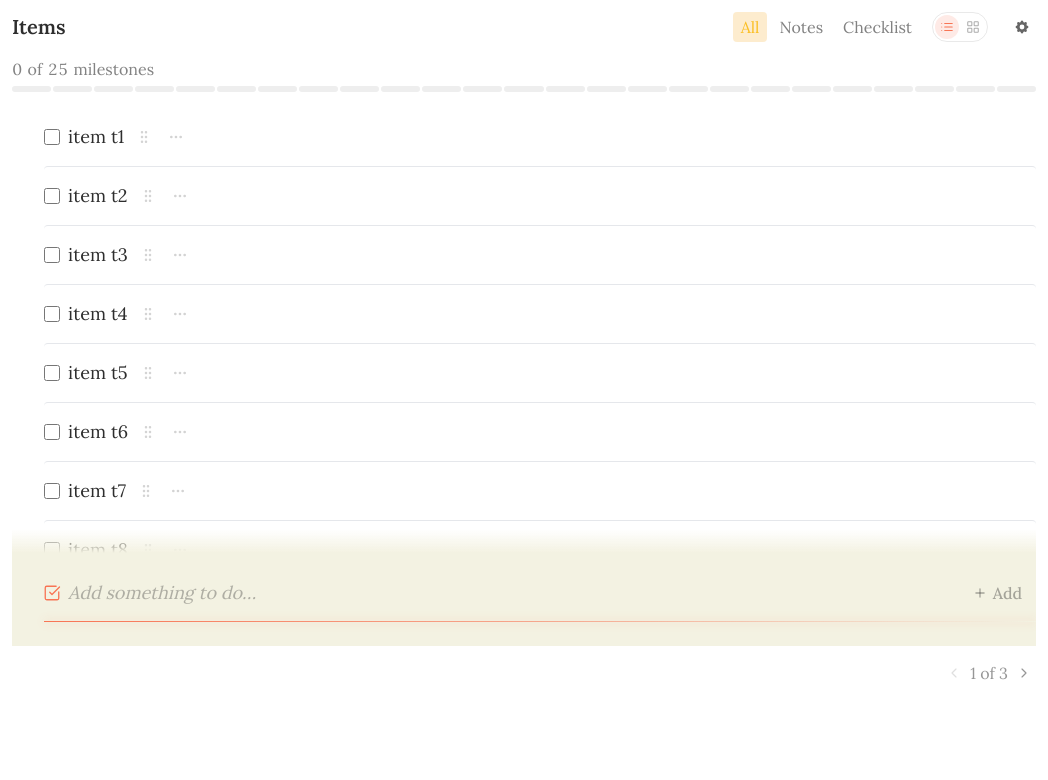
Todo add bar over a paged list (FS-0008 R15–R18) › should carry half-typed text and its nesting across a page change
This screenshot has width=1048, height=780.
Check: the text "item t1" is shown, box [68,124,124,150]
Press Tab in the field labelled "Add something to do…", box [68,577,947,609]
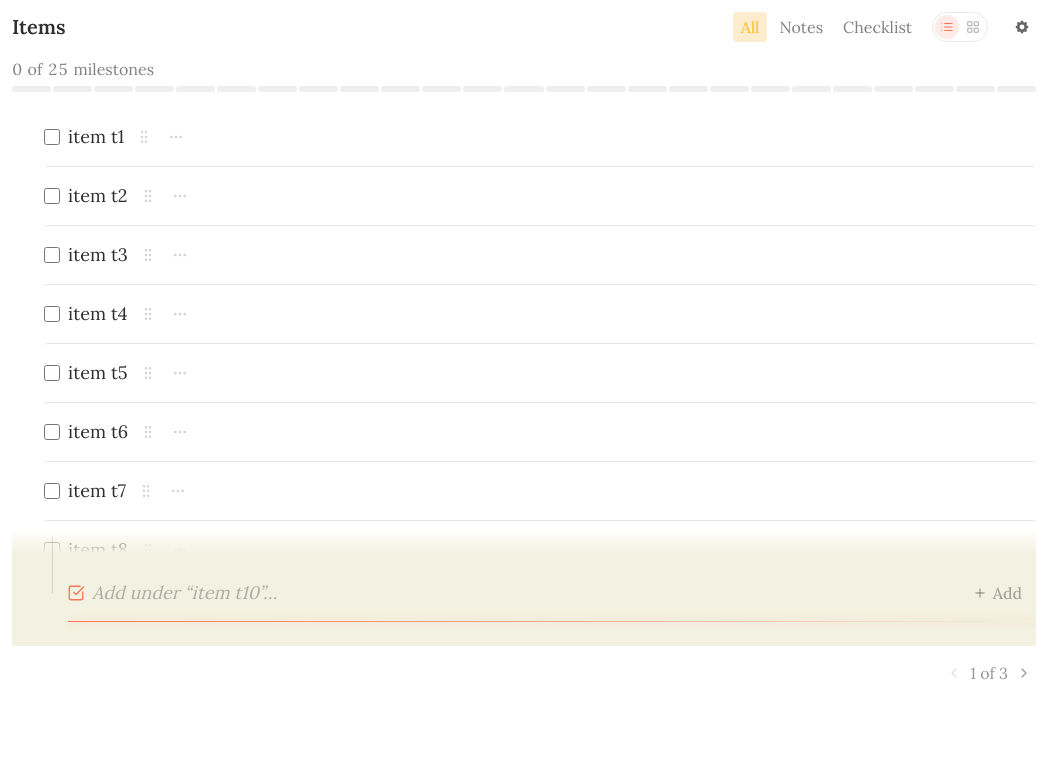
Type "half typed" into the field labelled "Add under “item t10”…" at (519, 593), box [92,577,947,609]
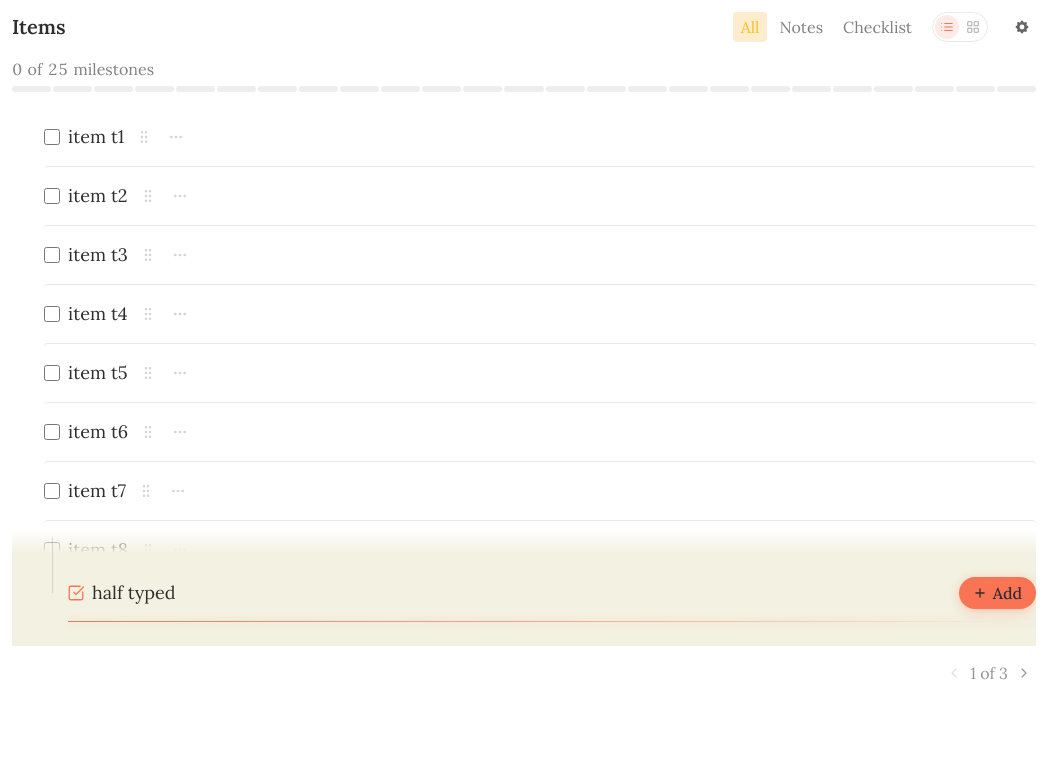
Click the button named "Next page" at (1024, 673), box [1016,665,1032,681]
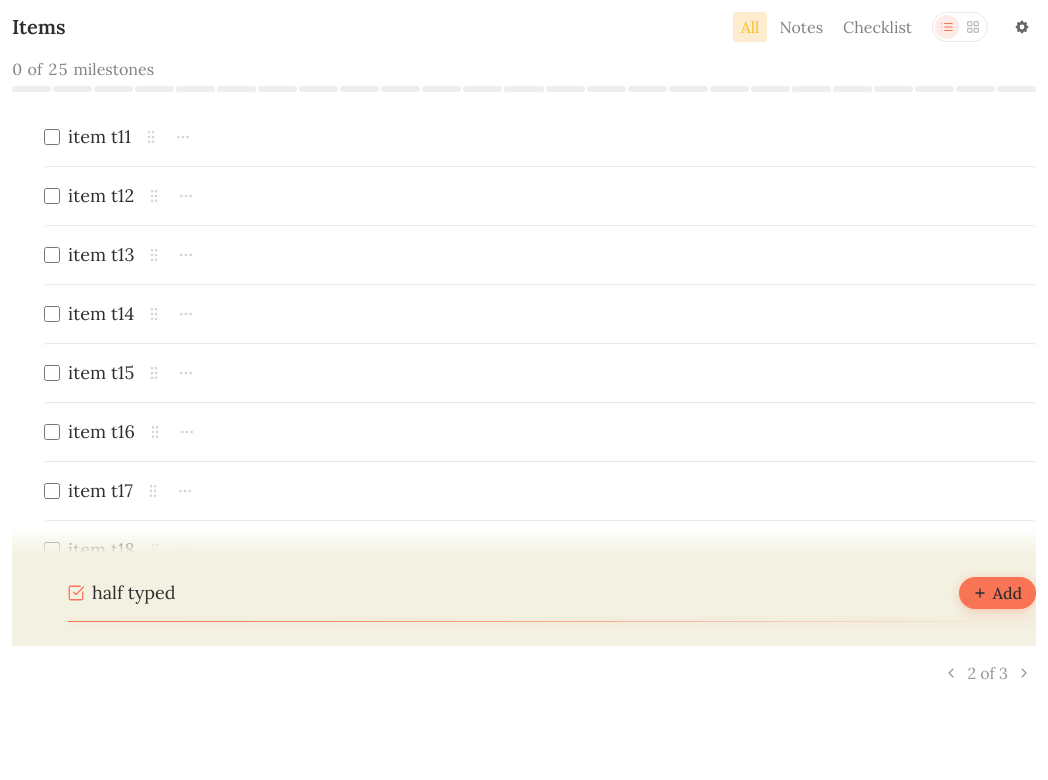
Check: the text with test id "page-counter" reads "2 of 3", box [967,662,1008,684]
